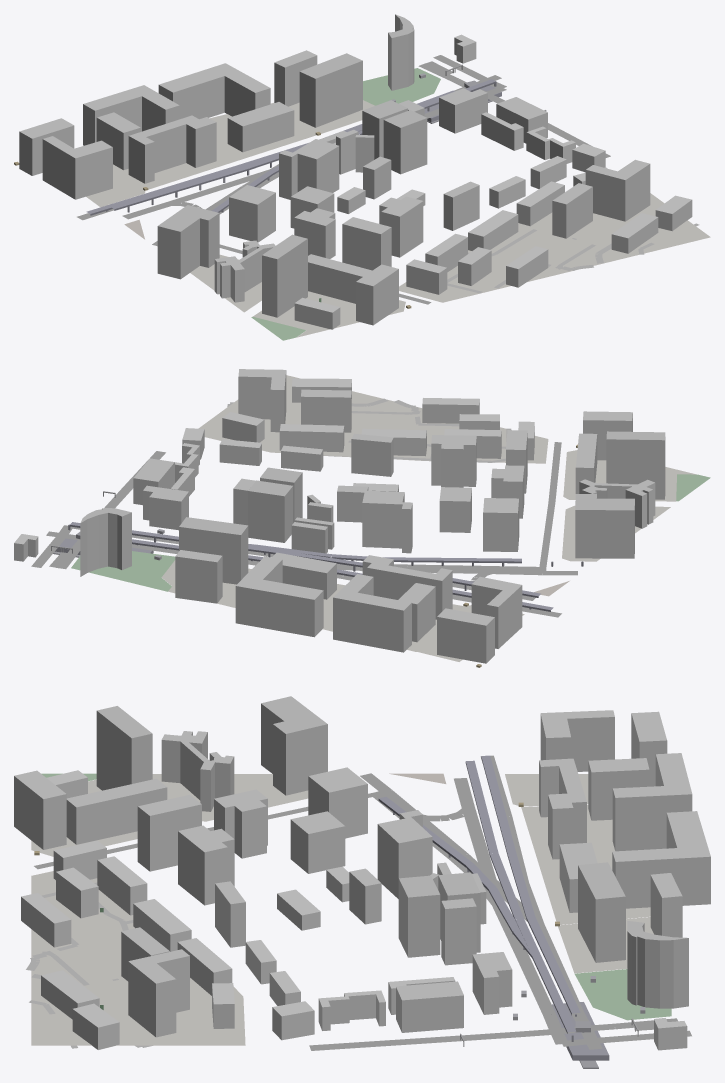
The picture shows the model from 3 angles, top to bottom: view 1: azimuth 30°, elevation 25°; view 2: azimuth 150°, elevation 25°; view 3: azimuth 270°, elevation 25°; orthographic projection. The views are drawn at different scales.
Bounding box in the file's own units: 543 × 86.18 × 544.
